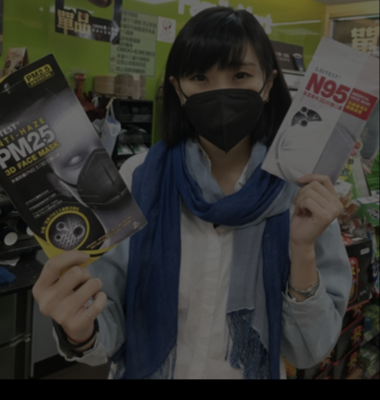with_mask: (178, 60, 266, 152)
